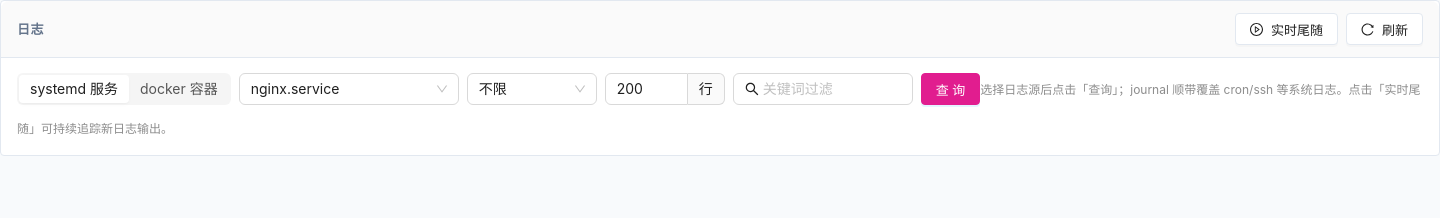
Test: LogsPanel › 尾随帧解析：空行/坏 JSON/无 data 跳过；eof 缺省 reason 显示已停止
The width and height of the screenshot is (1440, 218).
Expected: the text "nginx.service" is shown, [251,80,340,97]
Click the button "实时尾随" at (1286, 29), box [1235,13,1338,45]
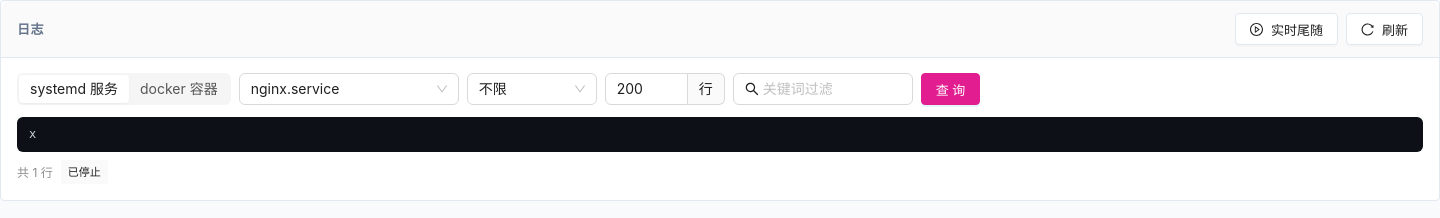
Expected: the text "x" is shown, [29,127,36,141]
Expected: the text "已停止" is shown, [61,160,108,184]
